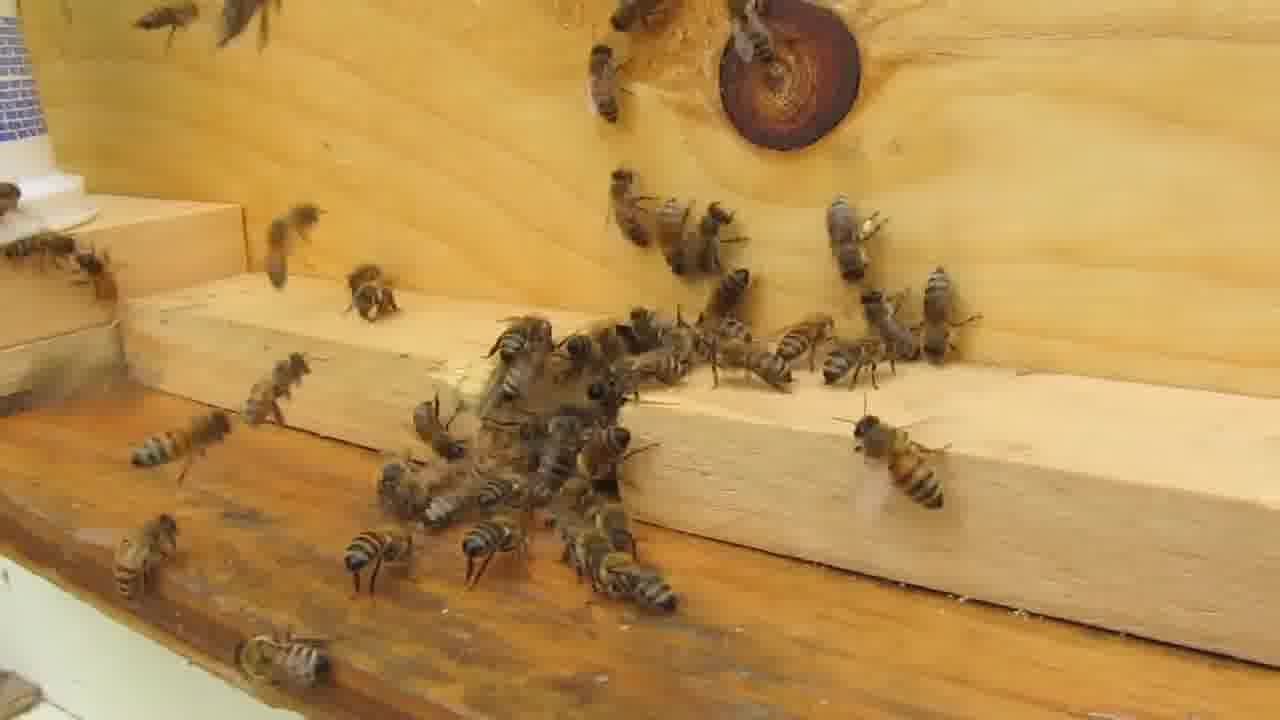pollen: (820, 194, 881, 284)
